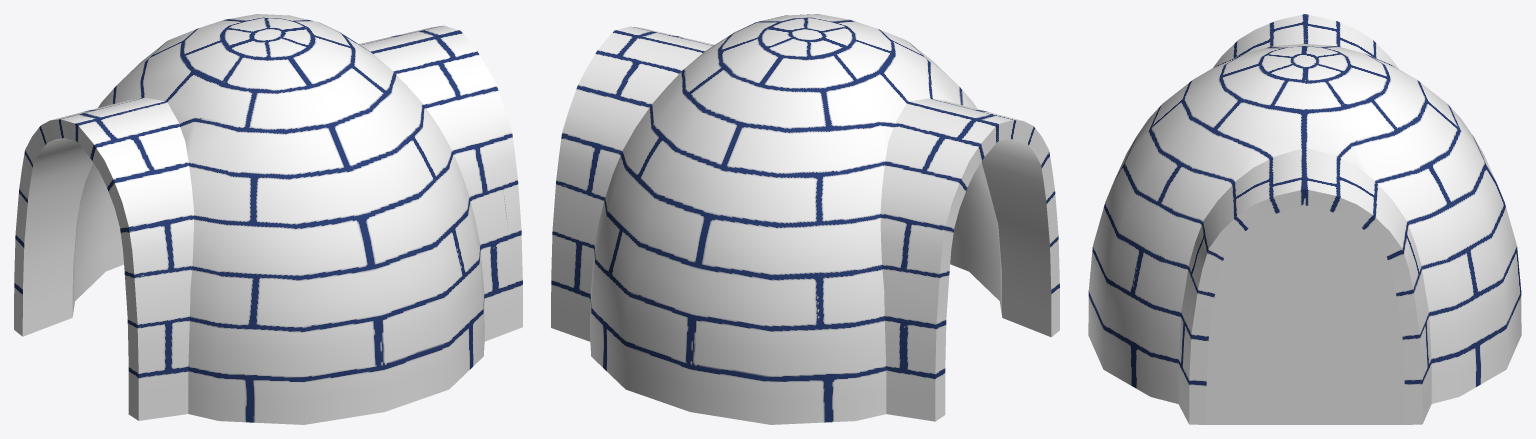
Rendered from casa de neve.gltf.
3 renders of one model, left to right at view 1: azimuth 30°, elevation 25°; view 2: azimuth 150°, elevation 25°; view 3: azimuth 270°, elevation 25°, orthographic. The views are drawn at different scales.
Visible parts, largest first — view 1: Iglu; view 2: Iglu; view 3: Iglu.
Part boxes in pixels (x1,y1,x2,y2): Iglu: (14,14,522,424); Iglu: (551,14,1059,424); Iglu: (1088,14,1521,424).
Size of the model in its own units: 5.58 by 4.08 by 5.8.
Materials: 1 (1 with a texture image).
